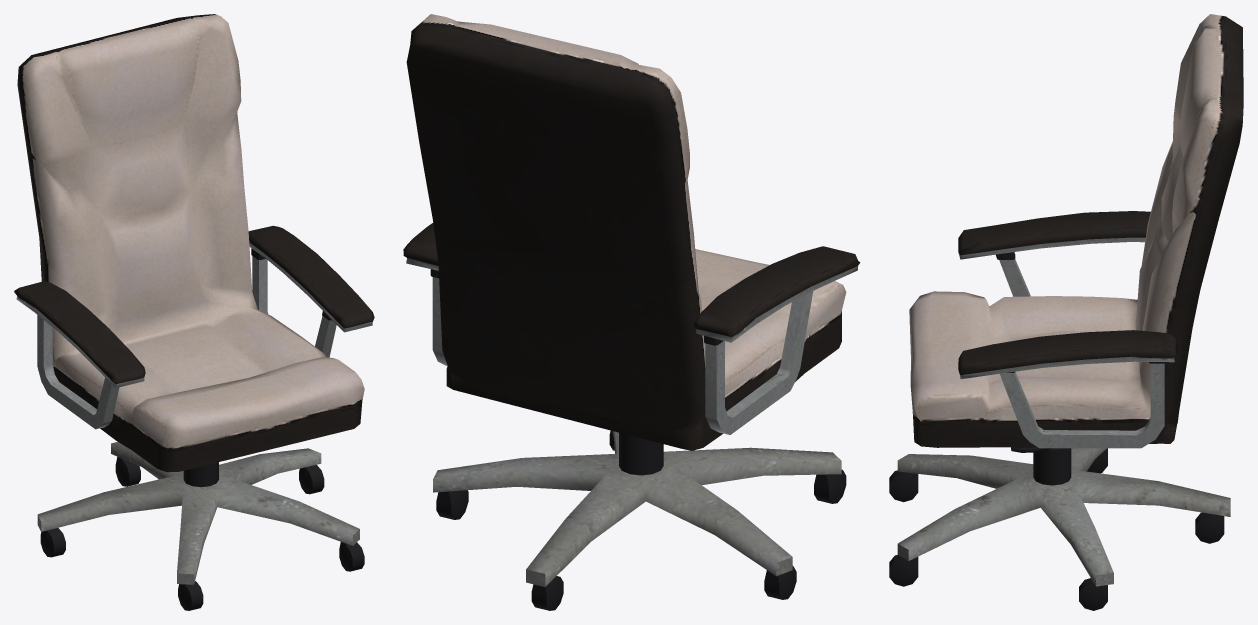
The model's file is 013_OfficeChair.fbx.
3 views of the same model, side by side, from view 1: azimuth 30°, elevation 25°; view 2: azimuth 150°, elevation 25°; view 3: azimuth 270°, elevation 25° (orthographic). The views are drawn at different scales.
Parts seen in each view (by area): view 1: LOD_1_Group_0_Sub_1__sm30_013_OfficeChair02A_A_Mat, LOD_1_Group_4_Sub_1__sm30_013_OfficeChair02A_A_Mat, LOD_1_Group_1_Sub_1__sm30_013_OfficeChair02A_A_Mat, LOD_1_Group_2_Sub_1__sm30_013_OfficeChair02A_A_Mat, LOD_1_Group_3_Sub_1__sm30_013_OfficeChair02A_A_Mat; view 2: LOD_1_Group_0_Sub_1__sm30_013_OfficeChair02A_A_Mat, LOD_1_Group_4_Sub_1__sm30_013_OfficeChair02A_A_Mat, LOD_1_Group_1_Sub_1__sm30_013_OfficeChair02A_A_Mat, LOD_1_Group_2_Sub_1__sm30_013_OfficeChair02A_A_Mat, LOD_1_Group_3_Sub_1__sm30_013_OfficeChair02A_A_Mat; view 3: LOD_1_Group_0_Sub_1__sm30_013_OfficeChair02A_A_Mat, LOD_1_Group_4_Sub_1__sm30_013_OfficeChair02A_A_Mat, LOD_1_Group_1_Sub_1__sm30_013_OfficeChair02A_A_Mat, LOD_1_Group_2_Sub_1__sm30_013_OfficeChair02A_A_Mat, LOD_1_Group_3_Sub_1__sm30_013_OfficeChair02A_A_Mat.
Part boxes in pixels (x1,y1,x2,y2): LOD_1_Group_0_Sub_1__sm30_013_OfficeChair02A_A_Mat: [14, 14, 374, 472]; LOD_1_Group_4_Sub_1__sm30_013_OfficeChair02A_A_Mat: [37, 442, 359, 584]; LOD_1_Group_1_Sub_1__sm30_013_OfficeChair02A_A_Mat: [37, 248, 336, 429]; LOD_1_Group_2_Sub_1__sm30_013_OfficeChair02A_A_Mat: [40, 456, 364, 610]; LOD_1_Group_3_Sub_1__sm30_013_OfficeChair02A_A_Mat: [183, 462, 218, 487]; LOD_1_Group_0_Sub_1__sm30_013_OfficeChair02A_A_Mat: [403, 14, 860, 450]; LOD_1_Group_4_Sub_1__sm30_013_OfficeChair02A_A_Mat: [433, 431, 841, 586]; LOD_1_Group_1_Sub_1__sm30_013_OfficeChair02A_A_Mat: [430, 269, 813, 434]; LOD_1_Group_2_Sub_1__sm30_013_OfficeChair02A_A_Mat: [436, 430, 846, 610]; LOD_1_Group_3_Sub_1__sm30_013_OfficeChair02A_A_Mat: [619, 432, 663, 475]; LOD_1_Group_0_Sub_1__sm30_013_OfficeChair02A_A_Mat: [909, 14, 1243, 447]; LOD_1_Group_4_Sub_1__sm30_013_OfficeChair02A_A_Mat: [897, 448, 1230, 586]; LOD_1_Group_1_Sub_1__sm30_013_OfficeChair02A_A_Mat: [996, 252, 1167, 448]; LOD_1_Group_2_Sub_1__sm30_013_OfficeChair02A_A_Mat: [889, 448, 1224, 610]; LOD_1_Group_3_Sub_1__sm30_013_OfficeChair02A_A_Mat: [1011, 447, 1071, 485].
Size of the model in its own units: 0.7478 by 1.15 by 0.7635.
